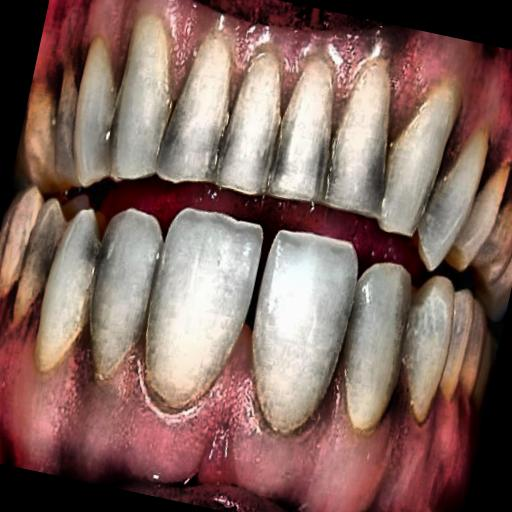Healthy: (15, 33, 512, 486)
